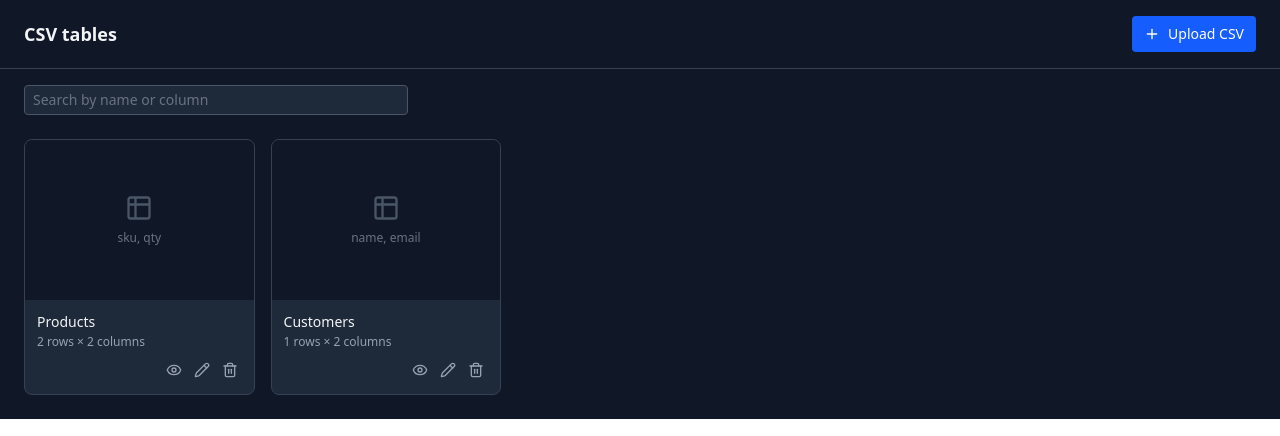
Test case: CsvSection › narrows the grid through the search input (by column name too)
Expected: the text "Products" is shown, [37,312,95,332]
Type "email" into the field labelled "Search by name or column" at (216, 100), box [24,85,408,115]
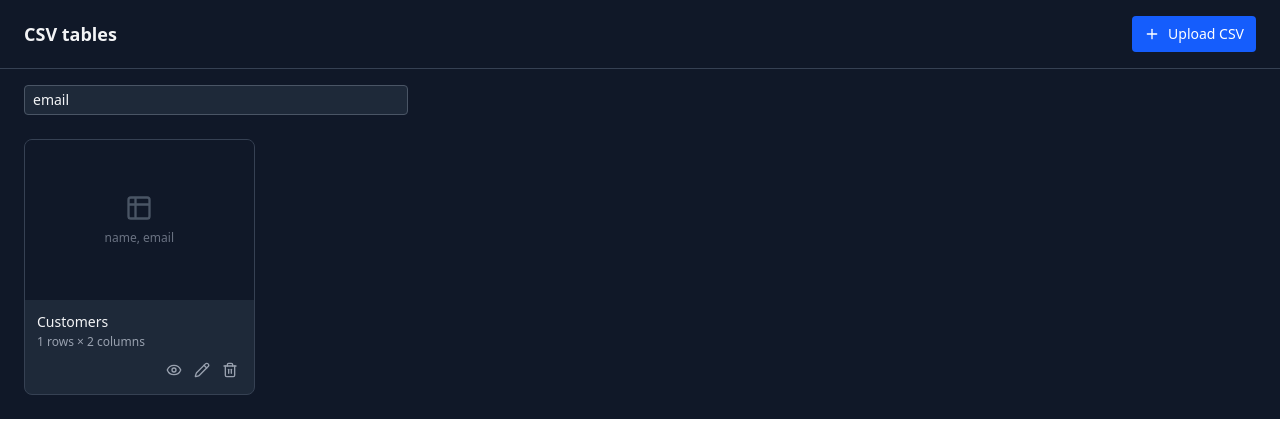
Expected: the text "Customers" is shown, [37,312,108,332]
Expected: the text "Products" is gone
